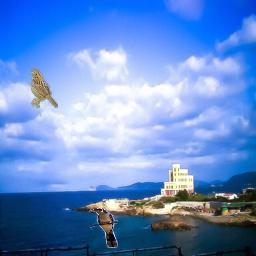Cuckoo: (89, 208, 118, 248)
Sparrow: (31, 68, 58, 108)
